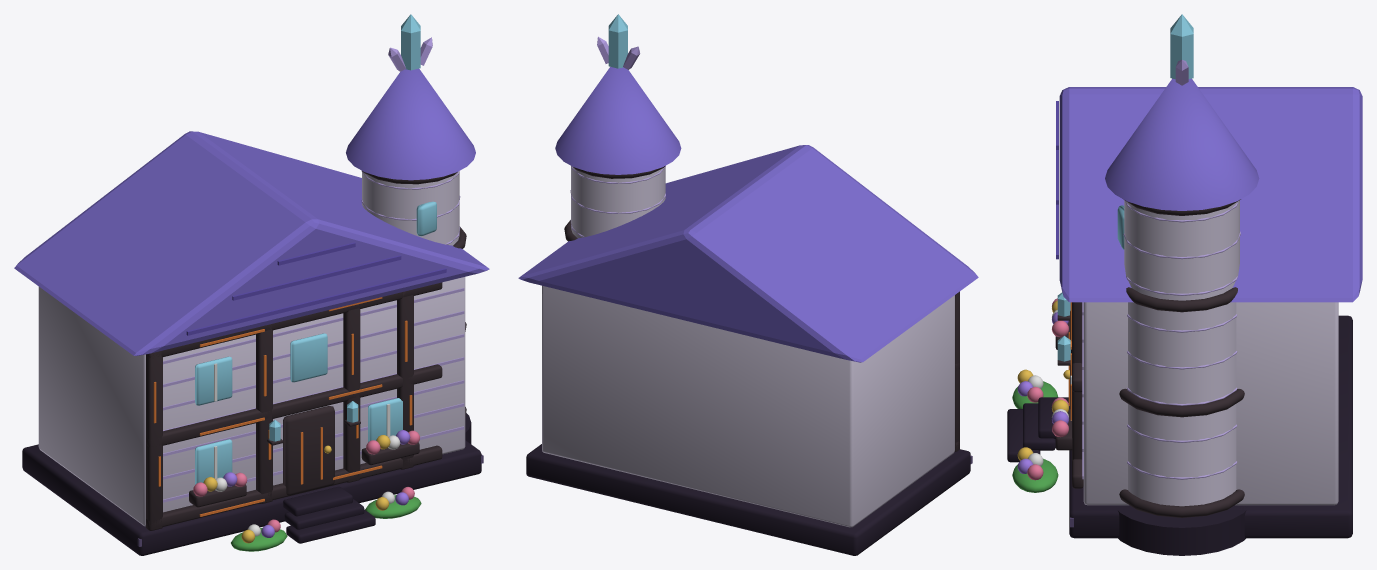
The model's file is home3.glb.
The picture shows the model from 3 angles, left to right: view 1: azimuth 30°, elevation 25°; view 2: azimuth 150°, elevation 25°; view 3: azimuth 270°, elevation 25°; orthographic projection. The views are drawn at different scales.
Visible parts, largest first — view 1: glim-roof, glim-walls, ember-frame, obsidian-plinth, crystal-windows, flower-boxes; view 2: glim-walls, glim-roof, obsidian-plinth, crystal-windows, ember-frame; view 3: glim-walls, glim-roof, obsidian-plinth, ember-frame, flower-boxes, crystal-windows.
Part boxes in pixels (<box>): glim-roof: <box>14,68,489,356</box>; glim-walls: <box>38,171,465,526</box>; ember-frame: <box>146,171,466,530</box>; obsidian-plinth: <box>22,413,483,555</box>; crystal-windows: <box>195,14,436,484</box>; flower-boxes: <box>189,430,421,551</box>; glim-walls: <box>542,166,954,527</box>; glim-roof: <box>518,67,978,362</box>; obsidian-plinth: <box>526,444,972,555</box>; crystal-windows: <box>597,14,640,69</box>; ember-frame: <box>564,166,959,451</box>; glim-walls: <box>1082,200,1338,506</box>; glim-roof: <box>1056,78,1362,302</box>; obsidian-plinth: <box>1007,315,1352,555</box>; ember-frame: <box>1063,199,1244,517</box>; flower-boxes: <box>1012,298,1072,492</box>; crystal-windows: <box>1057,14,1193,420</box>.
Size of the model in its own units: 5.4 by 5.9 by 3.68.
